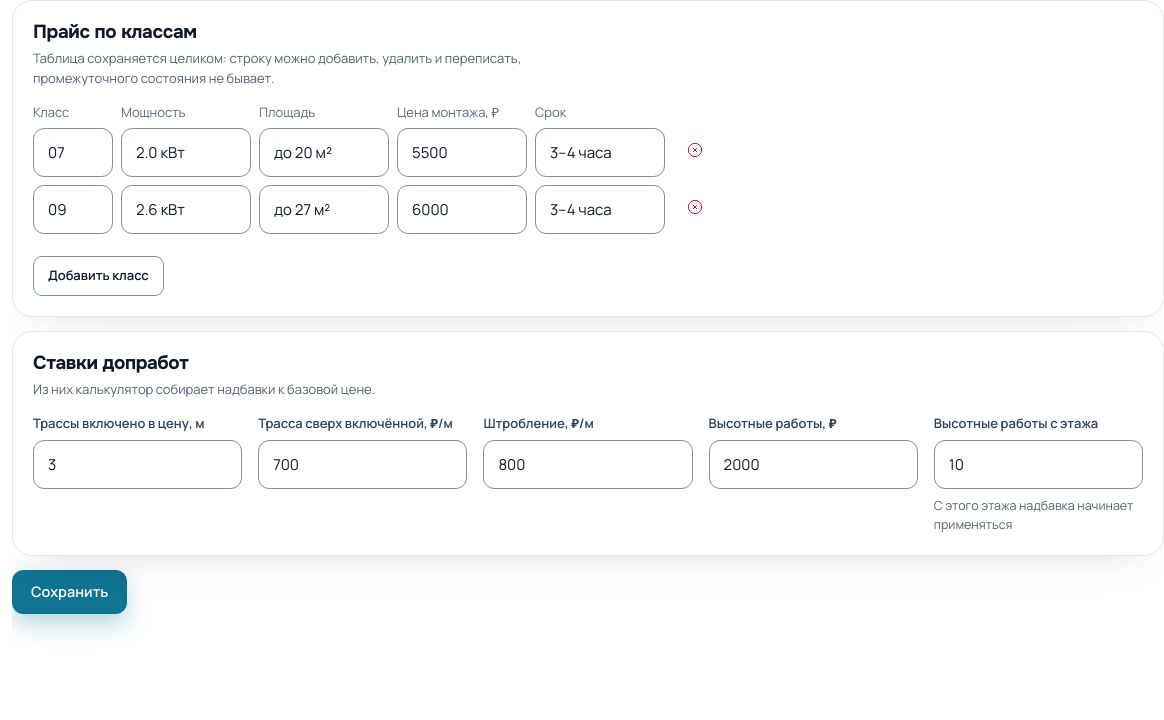
Test: Форма цен › 🔴 отказ сервера по строке подсвечивает эту строку
Click the button "Сохранить" at (70, 592), box x1=12 y1=570 x2=127 y2=614
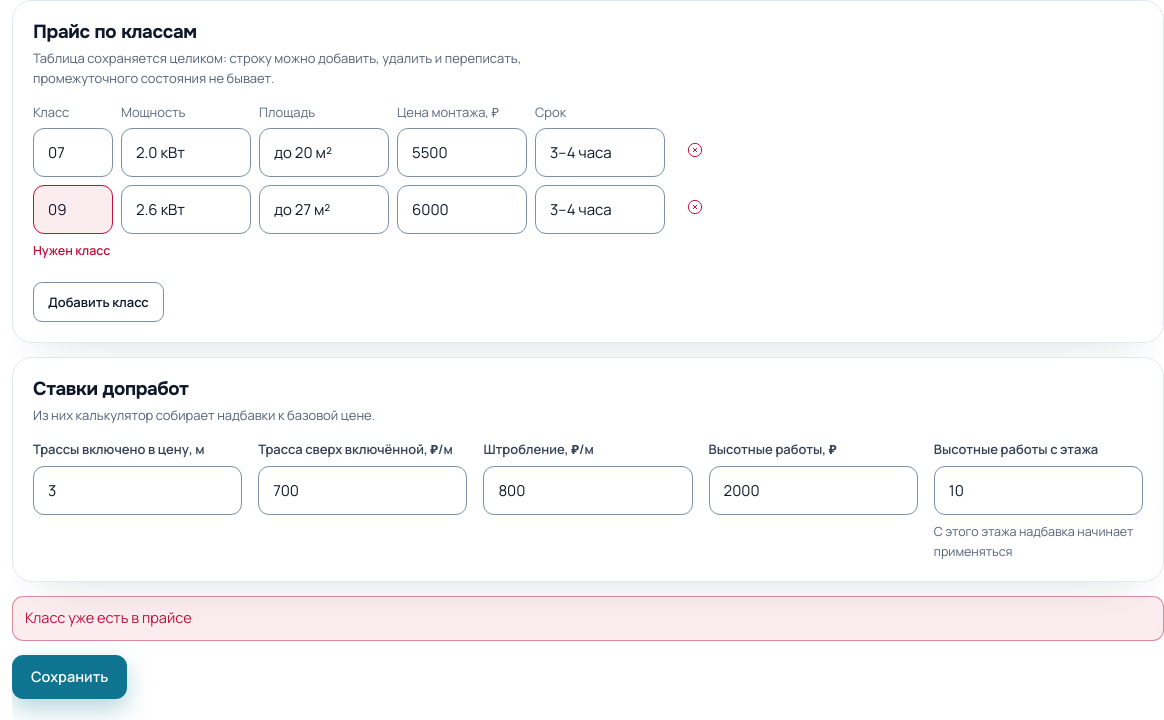
Expected: the text "Класс уже есть в прайсе" is shown, x1=12 y1=596 x2=1163 y2=641
